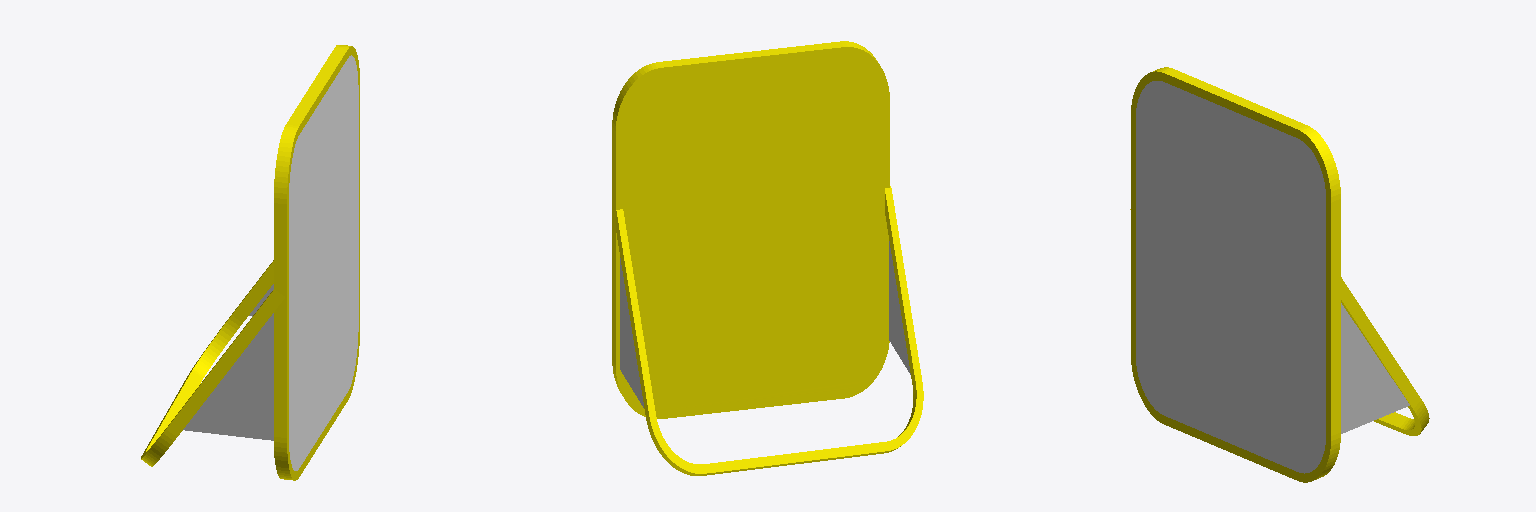
Rendered from deflectorY12.obj.
3 views of the same model, side by side, from view 1: azimuth 30°, elevation 25°; view 2: azimuth 150°, elevation 25°; view 3: azimuth 270°, elevation 25° (orthographic).
Visible parts, largest first — view 1: deflectorY1_Куб.175; view 2: deflectorY1_Куб.175; view 3: deflectorY1_Куб.175.
Part boxes in pixels (x1,y1,x2,y2): deflectorY1_Куб.175: (141, 45, 359, 480); deflectorY1_Куб.175: (612, 41, 923, 475); deflectorY1_Куб.175: (1130, 67, 1429, 482).
Bounding box in the file's own units: 0.1529 × 0.1973 × 0.1521.